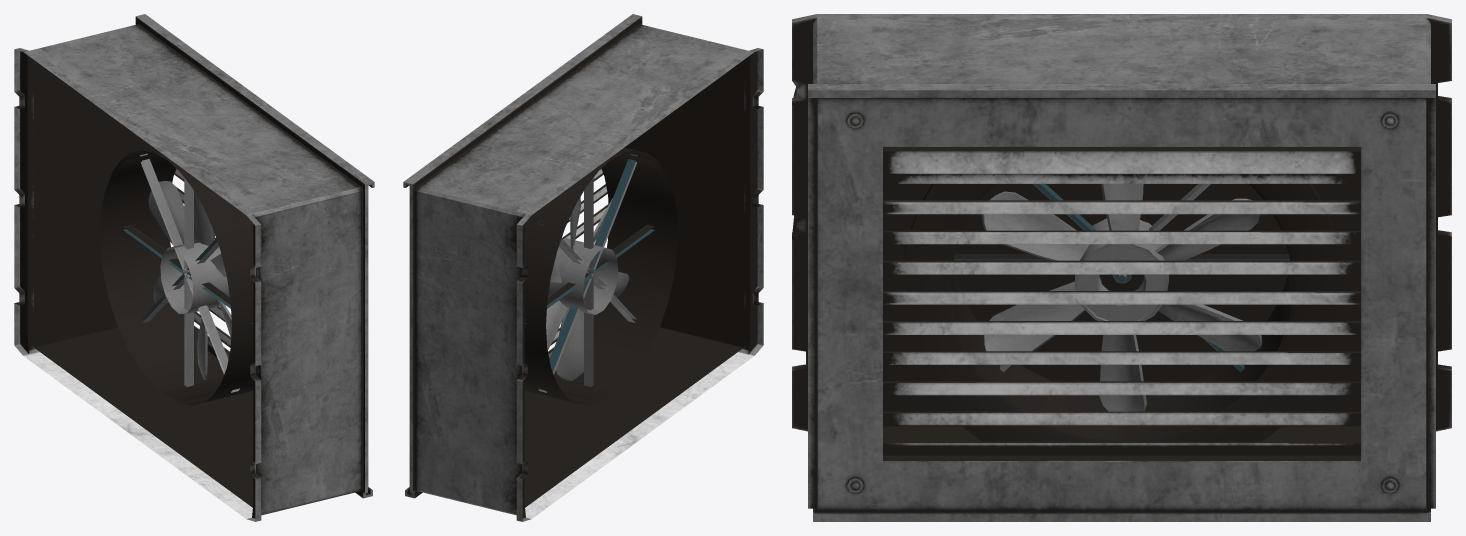
3 renders of one model, left to right at view 1: azimuth 30°, elevation 25°; view 2: azimuth 150°, elevation 25°; view 3: azimuth 270°, elevation 25°, orthographic. The views are drawn at different scales.
Parts seen in each view (by area): view 1: Object_36_fan_0, Vend_AirDuct_38, FanSupport_36, Vent_Cover_Frame_43; view 2: Object_36_fan_0, Vend_AirDuct_38, FanSupport_36, Vent_Cover_Frame_43; view 3: Vent_Cover_Frame_43, Object_36_fan_0, Vend_AirDuct_38, FanSupport_36.
Part boxes in pixels (<box>): Object_36_fan_0: <box>14,14,374,521</box>; Vend_AirDuct_38: <box>99,147,253,405</box>; FanSupport_36: <box>123,153,252,392</box>; Vent_Cover_Frame_43: <box>122,125,368,493</box>; Object_36_fan_0: <box>403,14,763,521</box>; Vend_AirDuct_38: <box>524,147,678,405</box>; FanSupport_36: <box>525,153,654,392</box>; Vent_Cover_Frame_43: <box>409,125,655,492</box>; Vent_Cover_Frame_43: <box>817,98,1426,512</box>; Object_36_fan_0: <box>792,14,1451,521</box>; Vend_AirDuct_38: <box>901,184,1342,441</box>; FanSupport_36: <box>954,184,1289,411</box>.
Size of the model in its own units: 0.2037 by 0.4893 by 0.6779.
Materials: 1 (1 with a texture image).
